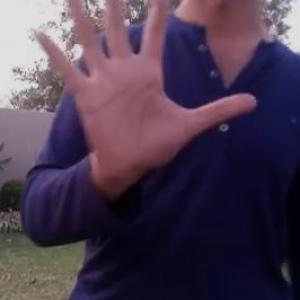follow_hand: (30, 0, 264, 183)
